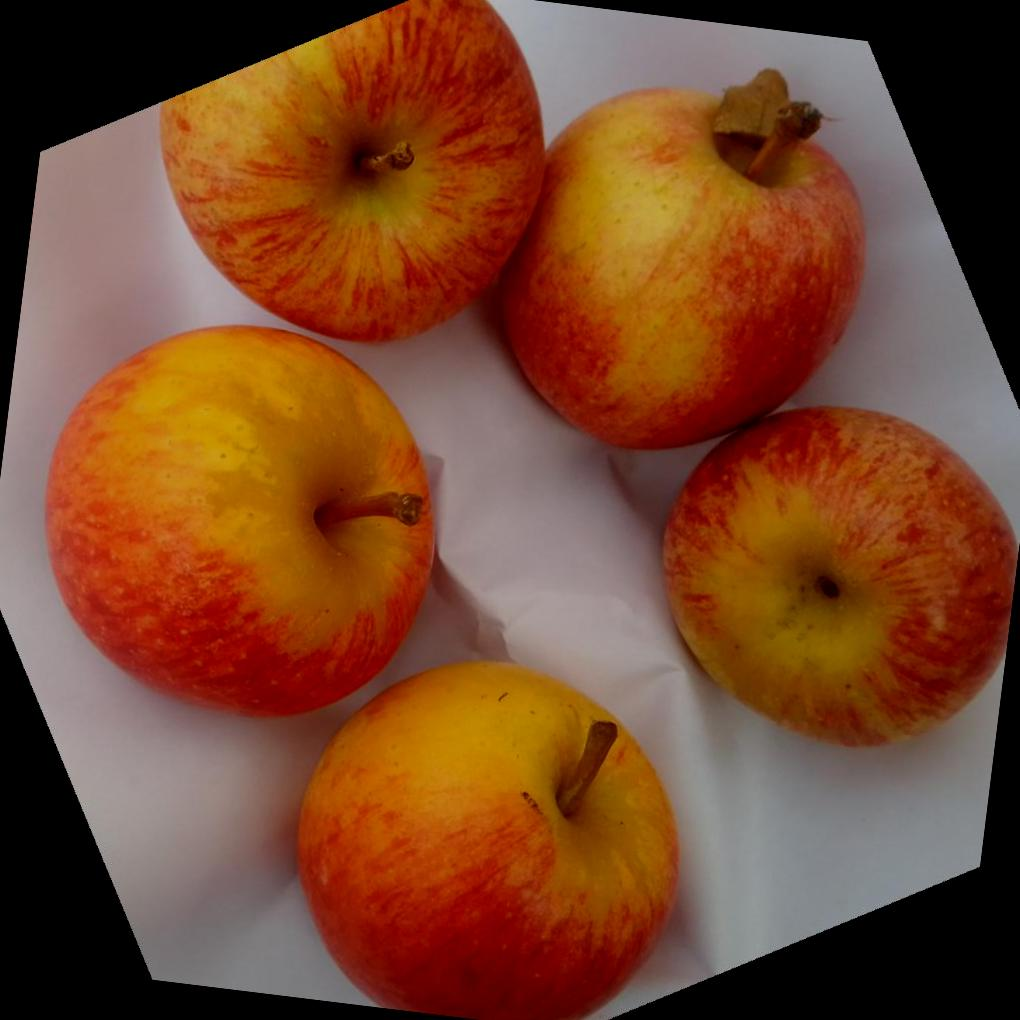FreshGuava: (45, 0, 1020, 748), (298, 658, 684, 1020)
